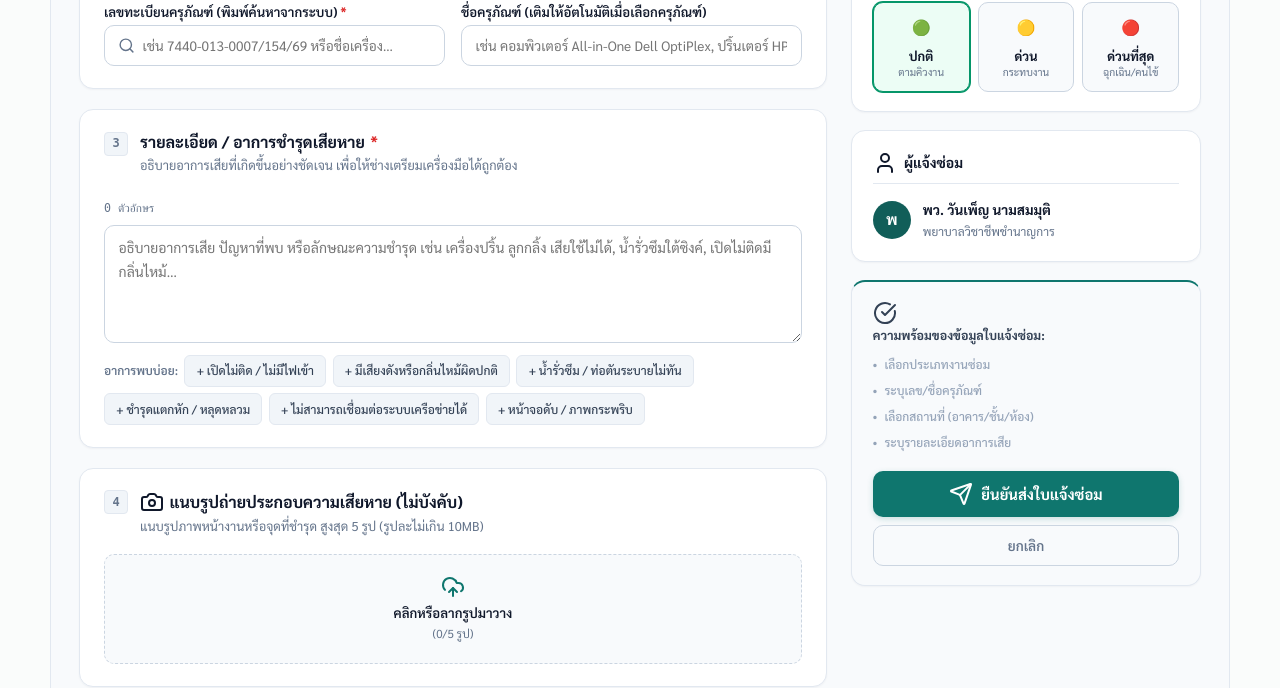
Scenario: RepairFormClient Component (Hallmark Anti-AI-Slop Redesign) › shows error alert if user attempts to submit without picking a category
The image size is (1280, 688).
(page scrolled)
Click the button "ยืนยันส่งใบแจ้งซ่อม". click: point(1026, 494)
box: [873,471,1179,517]
(page scrolled)
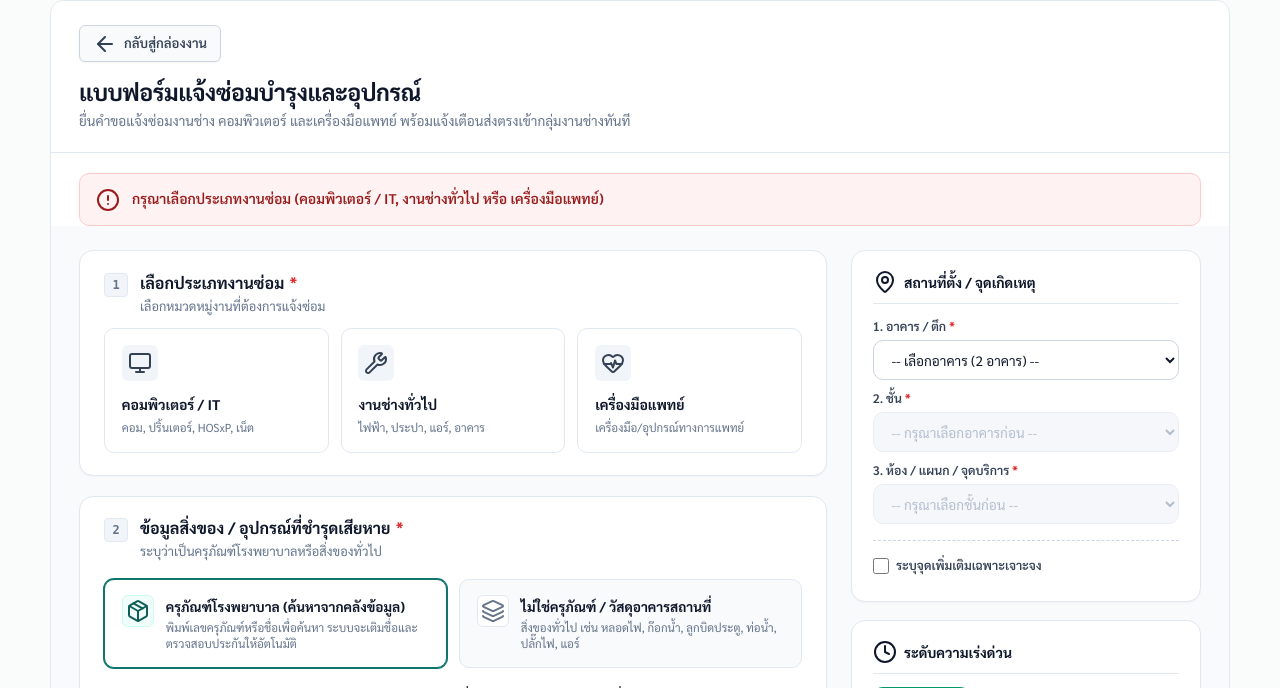
Check: the text "กรุณาเลือกประเภทงานซ่อม" is shown, box [132,189,604,207]
